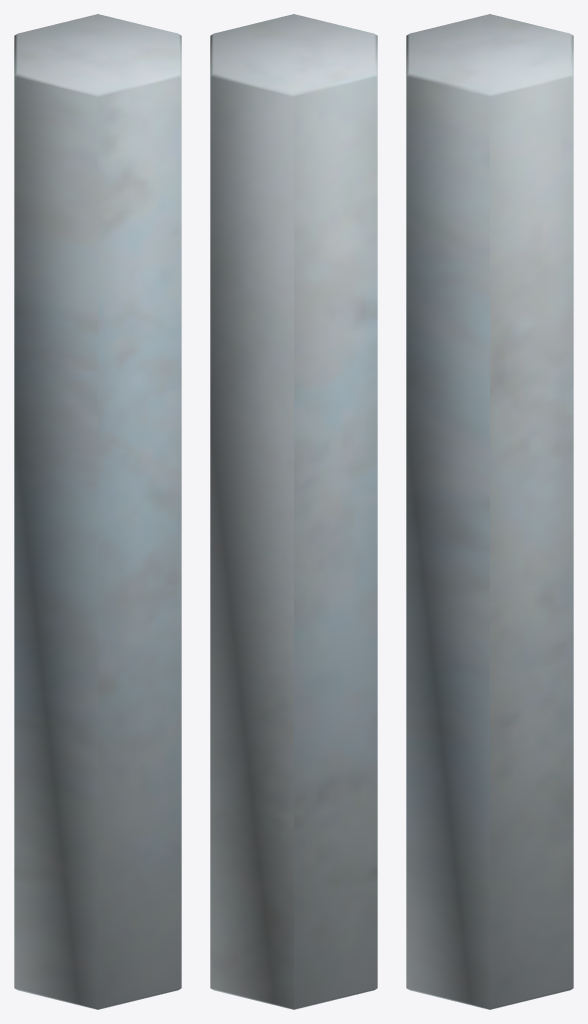
Rendered from P_RockHexic_Piece04.obj.
3 views of the same model, side by side, from view 1: azimuth 30°, elevation 25°; view 2: azimuth 150°, elevation 25°; view 3: azimuth 270°, elevation 25° (orthographic).
Size of the model in its own units: 3.6 by 18.88 by 3.12.
